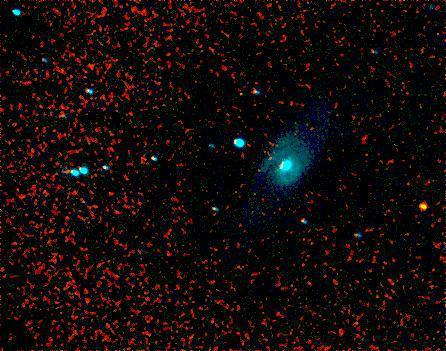star: (407, 191, 437, 221)
